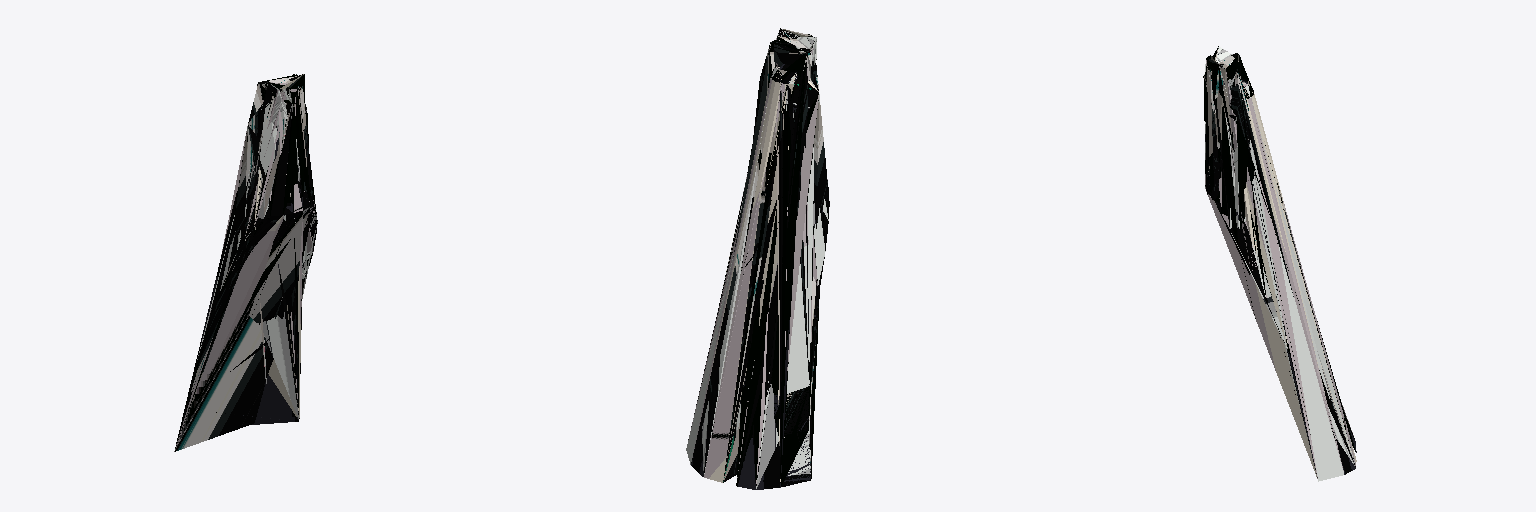
3 views of the same model, side by side, from view 1: azimuth 30°, elevation 25°; view 2: azimuth 150°, elevation 25°; view 3: azimuth 270°, elevation 25° (orthographic).
Parts seen in each view (by area): view 1: polygon12, polygon7, polygon18, polygon4, polygon11, polygon15, polygon17, polygon13, polygon1, polygon2, polygon3; view 2: polygon12, polygon15, polygon9, polygon2, polygon18, polygon7, polygon11, polygon4, polygon19, polygon1, polygon3, polygon8 (+2 smaller); view 3: polygon7, polygon15, polygon11, polygon8, polygon4, polygon10, polygon18, polygon2, polygon12, polygon19, polygon3, polygon9.
Boxes of the visible parts, x1=… form: polygon12: x1=175, y1=74, x2=316, y2=451; polygon7: x1=174, y1=82, x2=316, y2=451; polygon18: x1=180, y1=74, x2=316, y2=434; polygon4: x1=220, y1=83, x2=317, y2=418; polygon11: x1=204, y1=74, x2=310, y2=418; polygon15: x1=179, y1=84, x2=317, y2=434; polygon17: x1=231, y1=127, x2=313, y2=319; polygon13: x1=252, y1=374, x2=298, y2=424; polygon1: x1=175, y1=82, x2=316, y2=447; polygon2: x1=176, y1=74, x2=317, y2=445; polygon3: x1=227, y1=74, x2=315, y2=414; polygon12: x1=691, y1=32, x2=819, y2=484; polygon15: x1=686, y1=38, x2=824, y2=486; polygon9: x1=704, y1=72, x2=816, y2=482; polygon2: x1=727, y1=28, x2=819, y2=484; polygon18: x1=724, y1=42, x2=815, y2=485; polygon7: x1=723, y1=38, x2=827, y2=483; polygon11: x1=717, y1=29, x2=827, y2=485; polygon4: x1=704, y1=29, x2=825, y2=488; polygon19: x1=691, y1=72, x2=829, y2=489; polygon1: x1=724, y1=41, x2=818, y2=481; polygon3: x1=717, y1=29, x2=809, y2=482; polygon8: x1=692, y1=66, x2=793, y2=457; polygon7: x1=1205, y1=52, x2=1353, y2=478; polygon15: x1=1204, y1=64, x2=1343, y2=481; polygon11: x1=1204, y1=50, x2=1355, y2=451; polygon8: x1=1239, y1=83, x2=1343, y2=470; polygon4: x1=1216, y1=47, x2=1354, y2=462; polygon10: x1=1258, y1=141, x2=1353, y2=476; polygon18: x1=1205, y1=49, x2=1350, y2=434; polygon2: x1=1204, y1=54, x2=1354, y2=438; polygon12: x1=1203, y1=46, x2=1355, y2=458; polygon19: x1=1206, y1=90, x2=1356, y2=474; polygon3: x1=1208, y1=64, x2=1350, y2=430; polygon9: x1=1252, y1=92, x2=1356, y2=465.
Bounding box in the file's own units: 1.84 × 5.64 × 1.95.
16 materials, 4 textured.